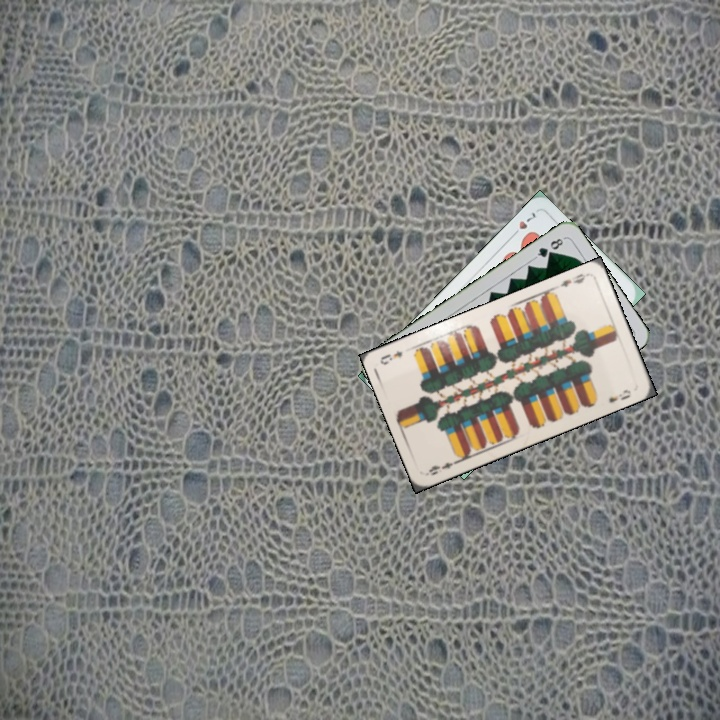E9: (424, 456, 463, 478), (556, 270, 590, 289)
G8: (531, 234, 567, 261)
H7: (507, 208, 539, 240)
